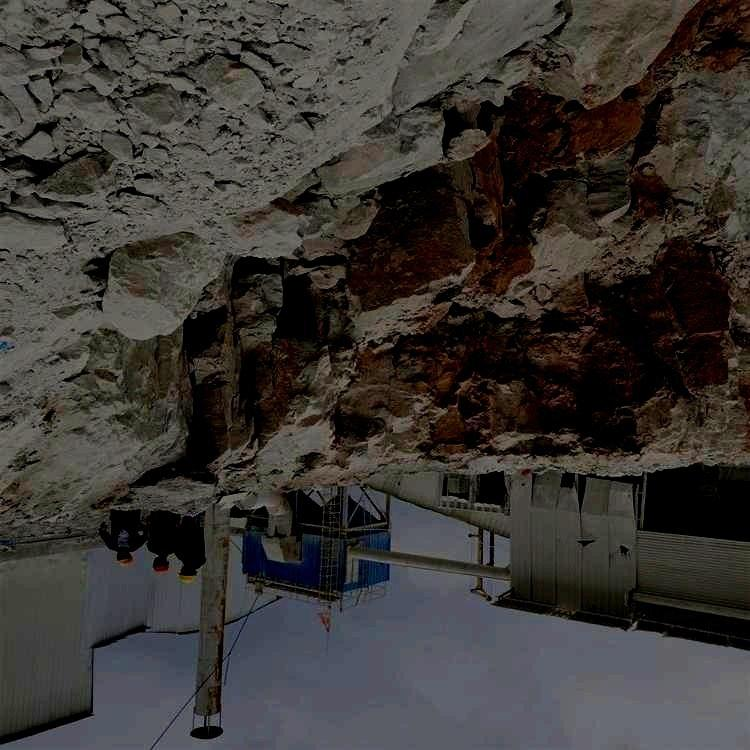helmet: (177, 565, 199, 586), (115, 548, 135, 569), (152, 555, 170, 576)
